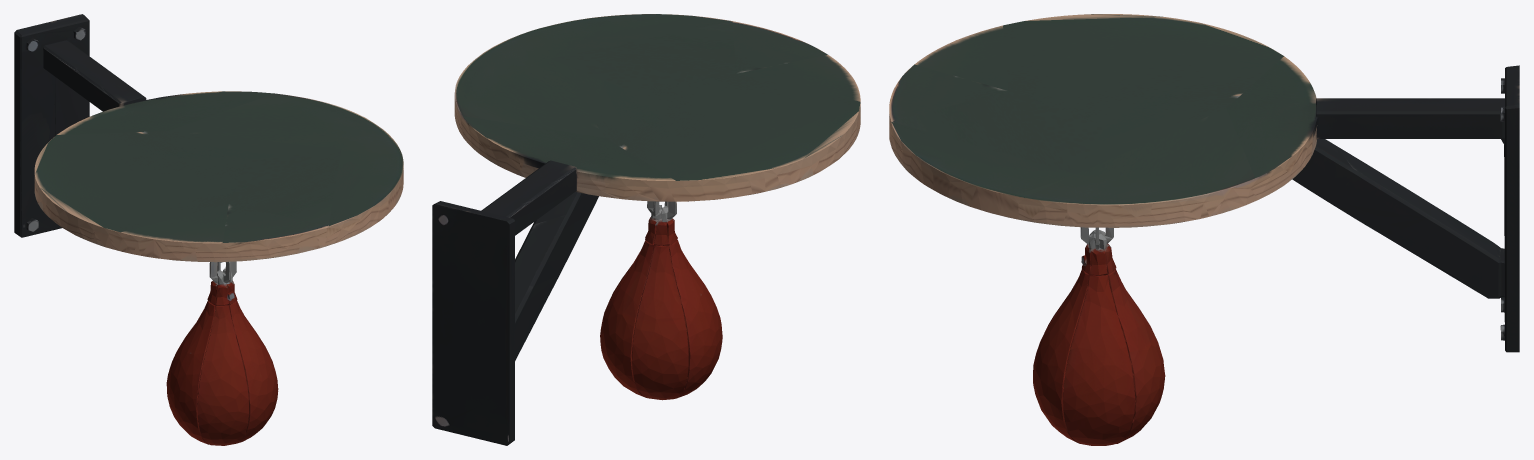
Rendered from speed_bag_platform.glb.
3 views of the same model, side by side, from view 1: azimuth 30°, elevation 25°; view 2: azimuth 150°, elevation 25°; view 3: azimuth 270°, elevation 25° (orthographic). The views are drawn at different scales.
Visible parts, largest first — view 1: speed_bag_platform; view 2: speed_bag_platform; view 3: speed_bag_platform.
Boxes of the visible parts, x1,y1,x2,y2 form: speed_bag_platform: [14, 14, 403, 445]; speed_bag_platform: [432, 14, 860, 445]; speed_bag_platform: [889, 14, 1519, 445].
Bounding box in the file's own units: 0.6 × 0.517 × 0.8354.
1 material, 1 textured.
